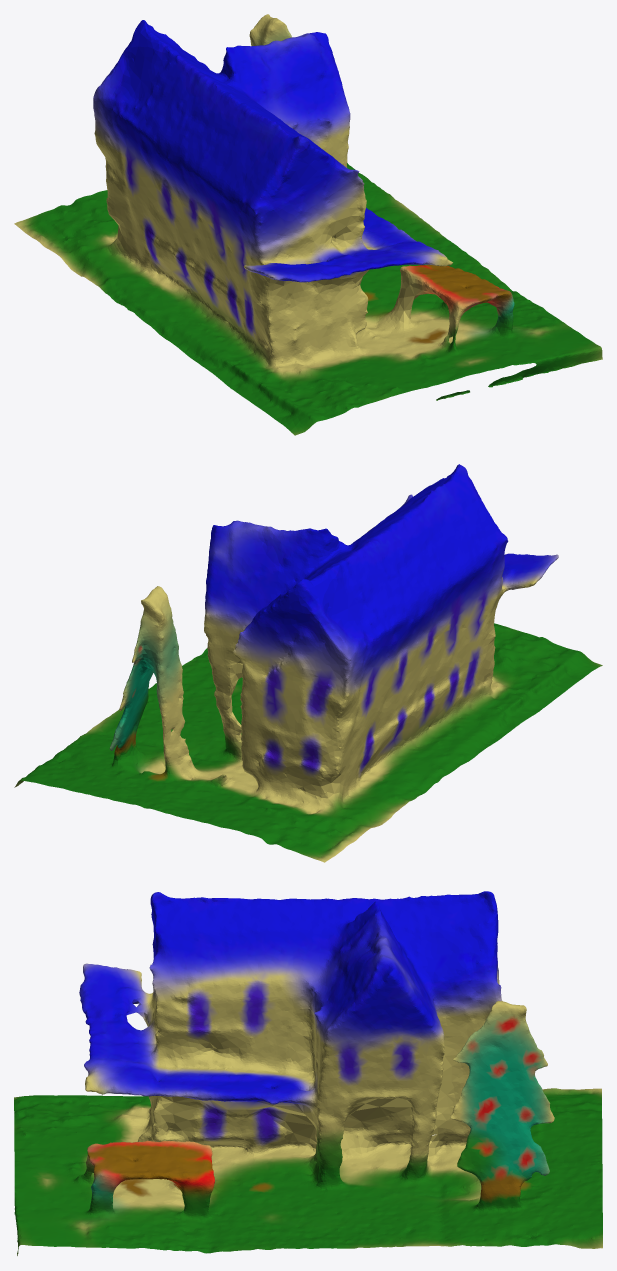
The model's file is color_190918_fmt1.glb.
3 views of the same model, one above another, from view 1: azimuth 30°, elevation 25°; view 2: azimuth 150°, elevation 25°; view 3: azimuth 270°, elevation 25° (orthographic). The views are drawn at different scales.
Parts seen in each view (by area): view 1: base_190918_fmt1; view 2: base_190918_fmt1; view 3: base_190918_fmt1.
Boxes of the visible parts, x1,y1,x2,y2 form: base_190918_fmt1: (14,14,602,435); base_190918_fmt1: (14,464,602,862); base_190918_fmt1: (14,891,602,1255).
Size of the model in its own units: 5.85 by 4.27 by 9.13.
